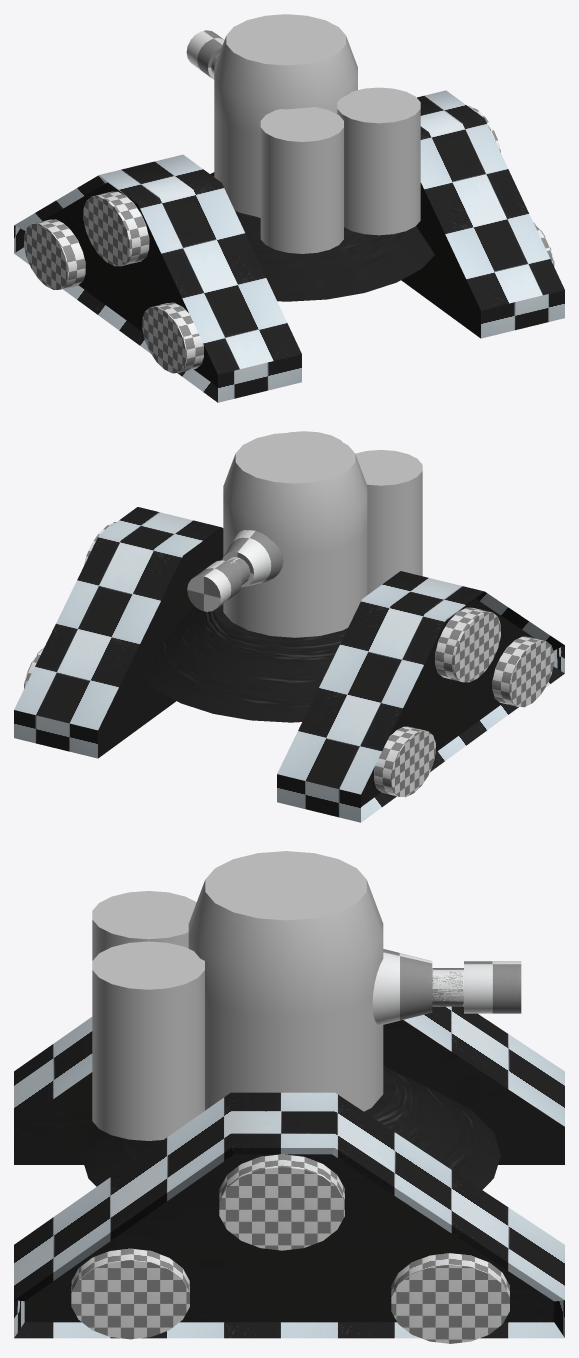
The model's file is Tank.FBX.
3 views of the same model, one above another, from view 1: azimuth 30°, elevation 25°; view 2: azimuth 150°, elevation 25°; view 3: azimuth 270°, elevation 25° (orthographic). The views are drawn at different scales.
Visible parts, largest first — view 1: Box02, Box01, Battery, Body, Base, Barrel; view 2: Box02, Box01, Body, Base, Battery, Barrel; view 3: Box01, Body, Box02, Battery, Base, Barrel.
Part boxes in pixels (x1,y1,x2,y2): Box02: (14, 154, 301, 402); Box01: (401, 90, 564, 338); Battery: (260, 87, 420, 253); Body: (214, 14, 357, 217); Base: (210, 172, 434, 301); Barrel: (186, 30, 224, 79); Box02: (277, 571, 564, 822); Box01: (14, 507, 223, 758); Body: (223, 432, 367, 637); Base: (143, 604, 347, 722); Battery: (289, 431, 422, 594); Barrel: (187, 530, 283, 611); Box01: (14, 1092, 564, 1343); Body: (188, 851, 383, 1111); Box02: (14, 1006, 564, 1164); Battery: (92, 891, 204, 1140); Base: (81, 1066, 500, 1189); Barrel: (372, 949, 521, 1025).
Size of the model in its own units: 22.07 by 21 by 14.09.
